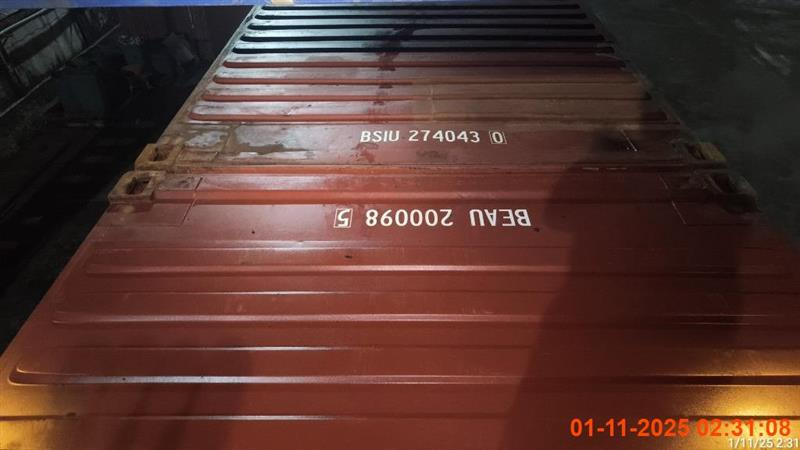broken: (1, 5, 790, 440)
